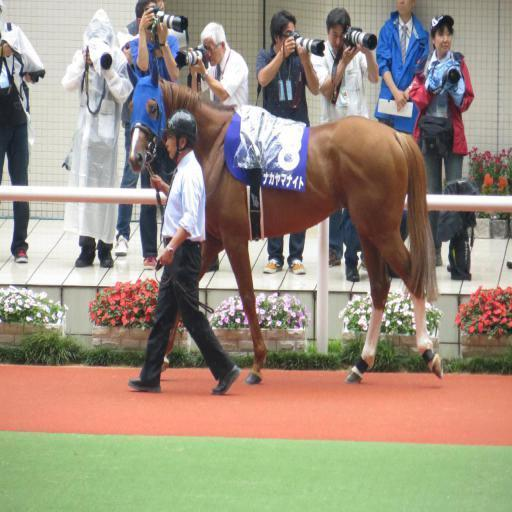horse: (127, 56, 445, 384)
